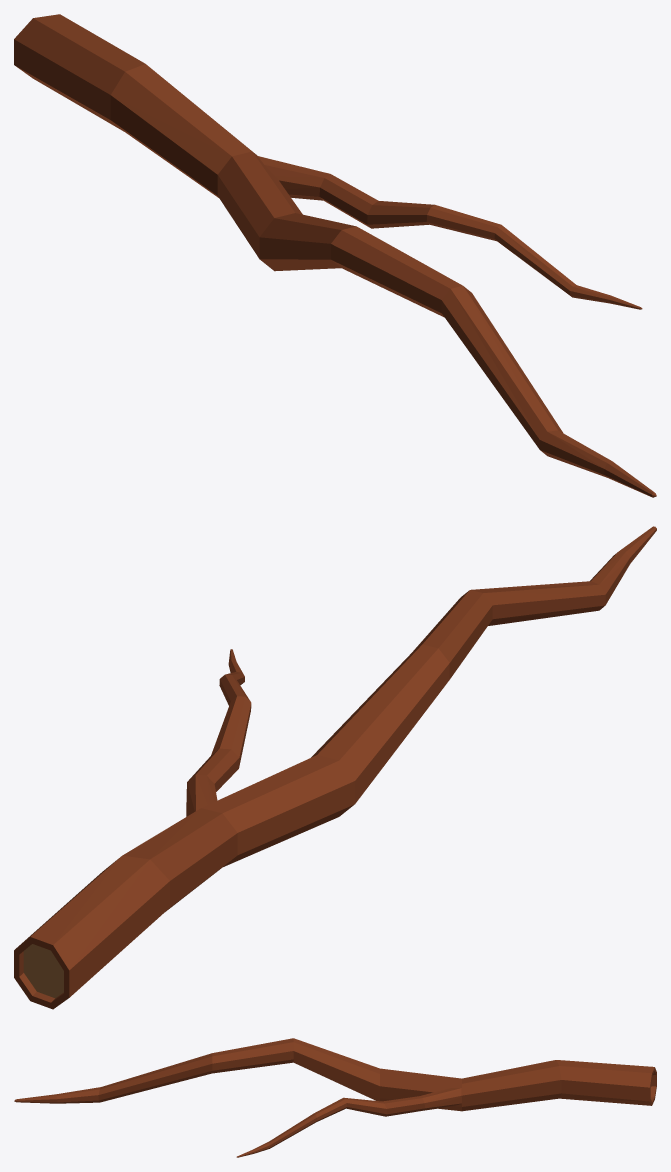
File: mediumLog.glb
The picture shows the model from 3 angles, top to bottom: view 1: azimuth 30°, elevation 25°; view 2: azimuth 150°, elevation 25°; view 3: azimuth 270°, elevation 25°; orthographic projection. The views are drawn at different scales.
Visible parts, largest first — view 1: Log.4; view 2: Log.4; view 3: Log.4.
Part boxes in pixels (box(x1,y1,x2,y2)): Log.4: box(14, 14, 656, 497); Log.4: box(14, 526, 656, 1009); Log.4: box(14, 1038, 656, 1157).
Size of the model in its own units: 1.18 by 0.4512 by 4.73.
